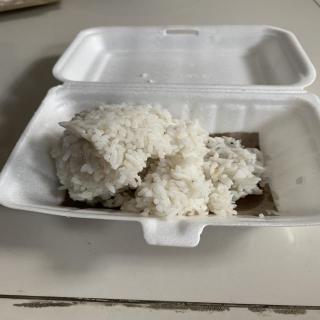Nasi: (54, 102, 270, 217)
